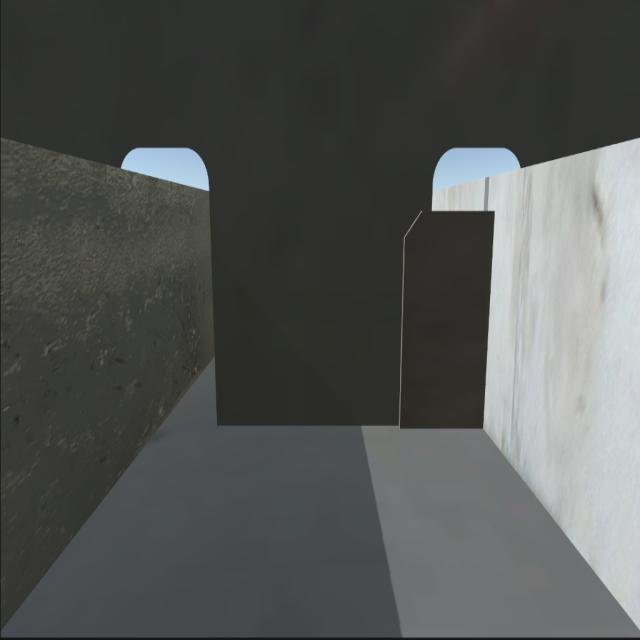fillet_yong_jeop_jang: (215, 411, 482, 437)
longi_yong_jeop_jang: (479, 208, 494, 432)
plate_CP03: (402, 202, 486, 433)
